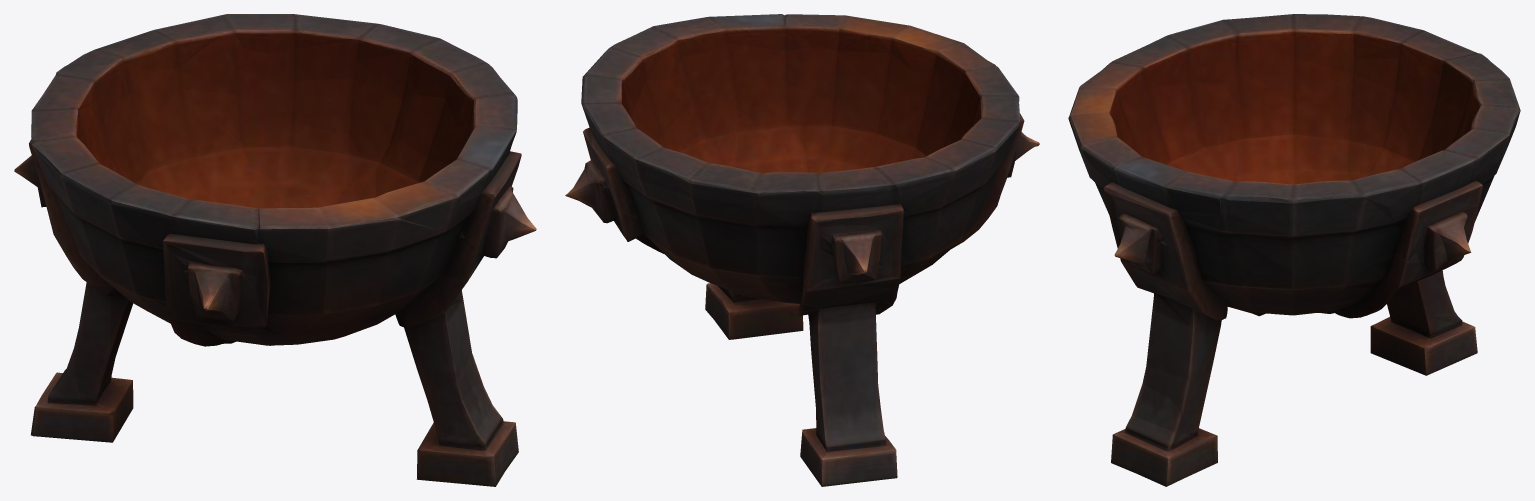
File: d_braises_brasero_v2.glb
The picture shows the model from 3 angles, left to right: view 1: azimuth 30°, elevation 25°; view 2: azimuth 150°, elevation 25°; view 3: azimuth 270°, elevation 25°; orthographic projection. The views are drawn at different scales.
Parts seen in each view (by area): view 1: geometry_0; view 2: geometry_0; view 3: geometry_0.
Boxes of the visible parts, x1,y1,x2,y2 form: geometry_0: (14, 14, 536, 486); geometry_0: (565, 14, 1039, 486); geometry_0: (1068, 14, 1520, 486).
Size of the model in its own units: 1 by 0.7369 by 0.9894.
Materials: 1 (1 with a texture image).
